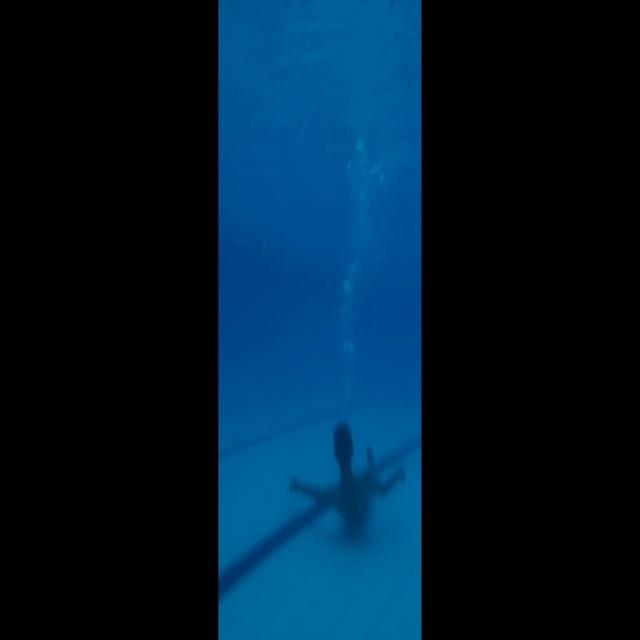drowning: (285, 409, 410, 585)
